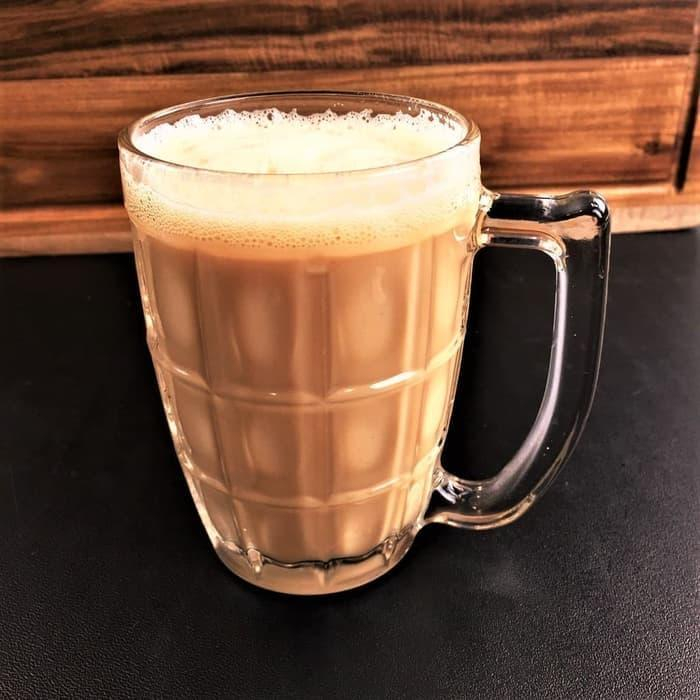produk_susu: (208, 115, 419, 547)
